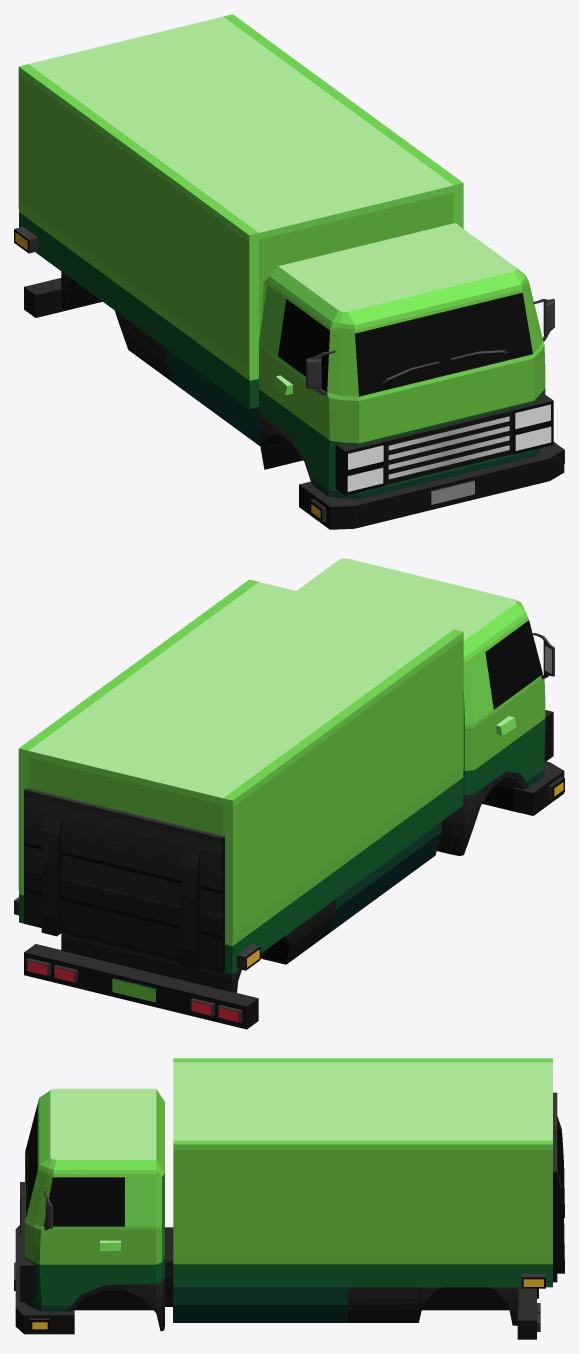
Rendered from Truck.003.fbx.
The picture shows the model from 3 angles, top to bottom: view 1: azimuth 30°, elevation 25°; view 2: azimuth 150°, elevation 25°; view 3: azimuth 270°, elevation 25°; orthographic projection. The views are drawn at different scales.
Parts seen in each view (by area): view 1: Truck.003; view 2: Truck.003; view 3: Truck.003.
Part boxes in pixels (<box>): Truck.003: <box>14,14,564,529</box>; Truck.003: <box>14,558,564,1029</box>; Truck.003: <box>14,1058,564,1339</box>.
Size of the model in its own units: 2.25 by 2.03 by 5.25.
